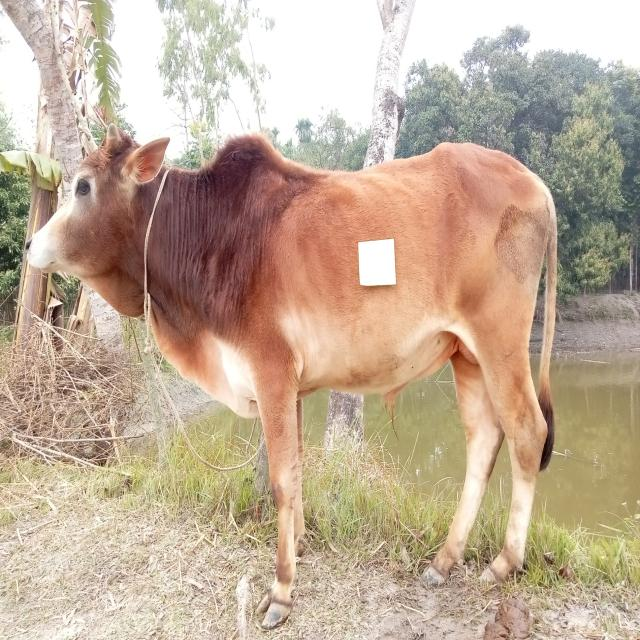badan_sapi: (248, 166, 539, 398)
sapi: (26, 119, 563, 635)
